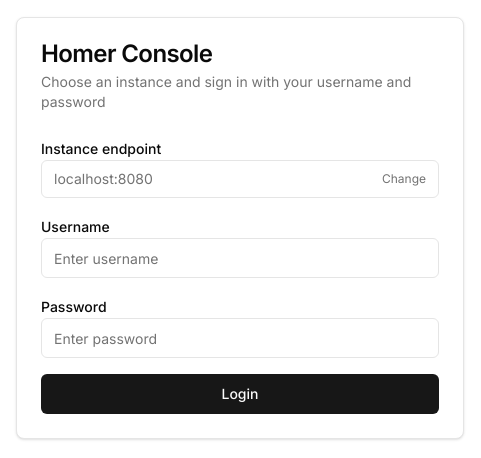
Test: LoginPage › folds the endpoint by default, summarizing the active instance host
The width and height of the screenshot is (481, 458).
Check: the field labelled "Username" is shown, box [41, 238, 439, 278]
Check: the password field labelled "Password" is shown, box [41, 318, 439, 358]
Expanding reveals the input prefilled with the active base URL.
What coordinates should you click on to do the following:
click the button with aria-label "change instance endpoint"
I would click on:
 (103, 178)
Its box is [41, 160, 439, 198].
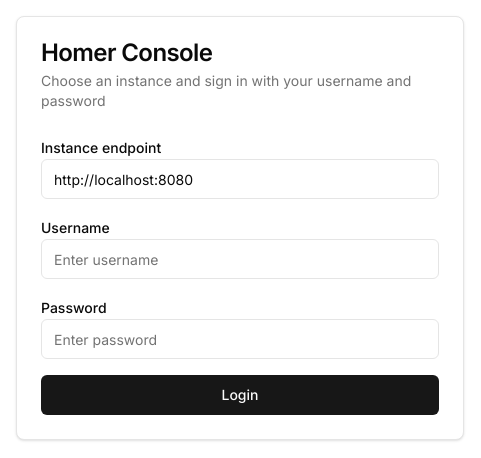
Check: the field labelled "Instance endpoint" holds "http://localhost:8080", box [41, 159, 439, 199]
